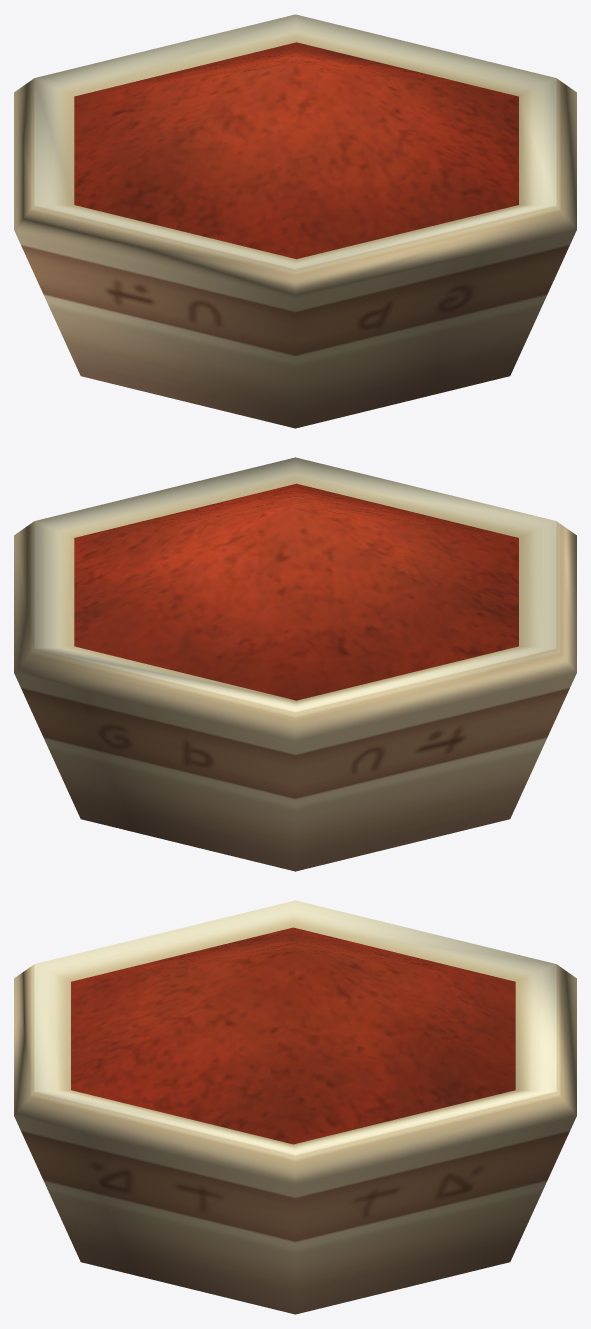
The model's file is powder_02.fbx.
3 views of the same model, one above another, from view 1: azimuth 30°, elevation 25°; view 2: azimuth 150°, elevation 25°; view 3: azimuth 270°, elevation 25° (orthographic).
Visible parts, largest first — view 1: powder_02Mesh; view 2: powder_02Mesh; view 3: powder_02Mesh.
Part boxes in pixels (box(x1,y1,x2,y2)): powder_02Mesh: box(14, 14, 576, 428); powder_02Mesh: box(14, 457, 576, 871); powder_02Mesh: box(14, 900, 576, 1314).
Bounding box in the file's own units: 0.5975 × 0.2621 × 0.5175.
